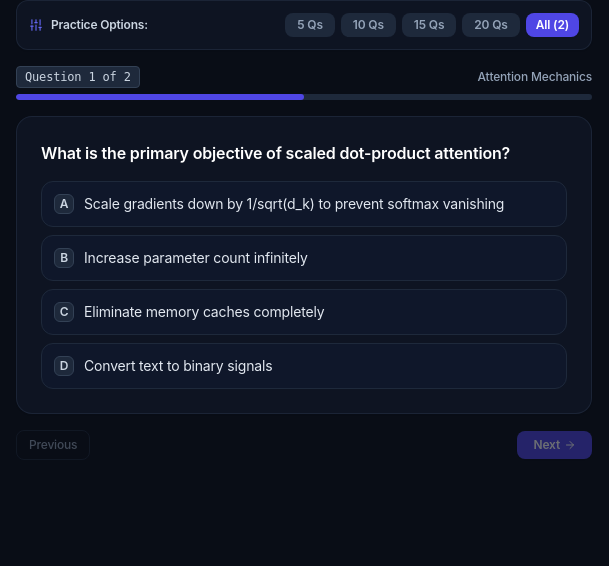
Test: PracticeQuiz Component › reveals explanation when an option is clicked
Click the text "Scale gradients down by 1/sqrt(d_k) to prevent softmax vanishing": (294,204) [84, 194, 504, 214]
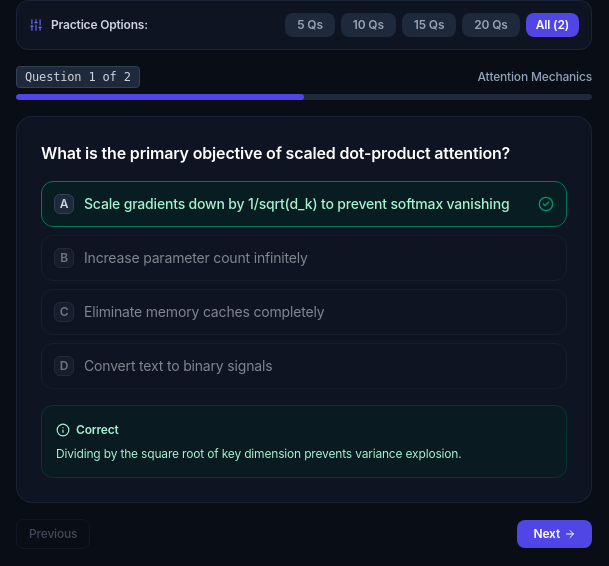
Result: the text "Dividing by the square root of key dimension" is shown at [56, 446, 462, 460]
